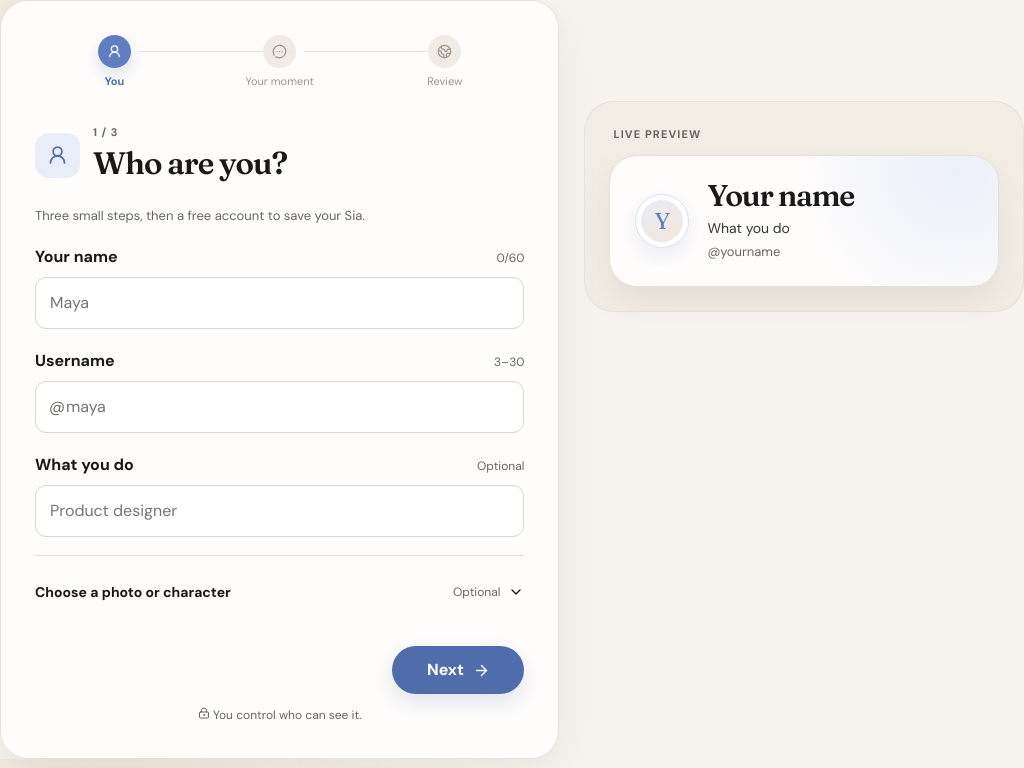
Test: ProfileForm — username › drops characters a username cannot hold as they are typed
Type "Smoke Test!" into the field labelled "Username" at [280, 407], box [35,381,524,433]
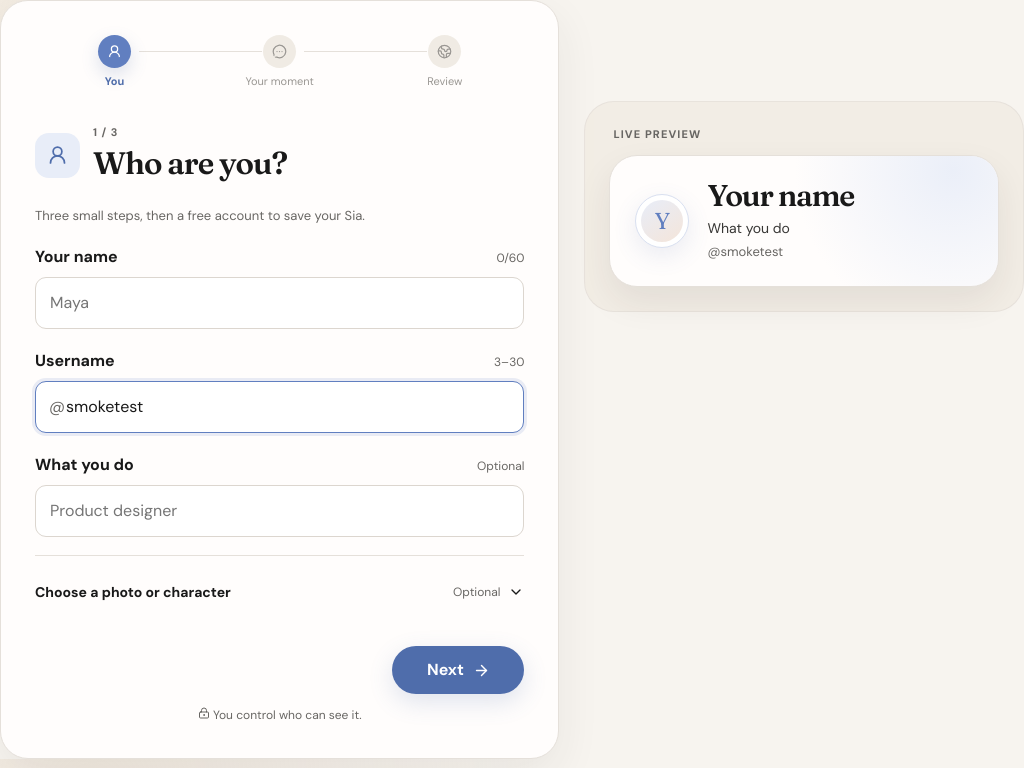
Result: the field labelled "Username" holds "smoketest" at [35,381,524,433]
